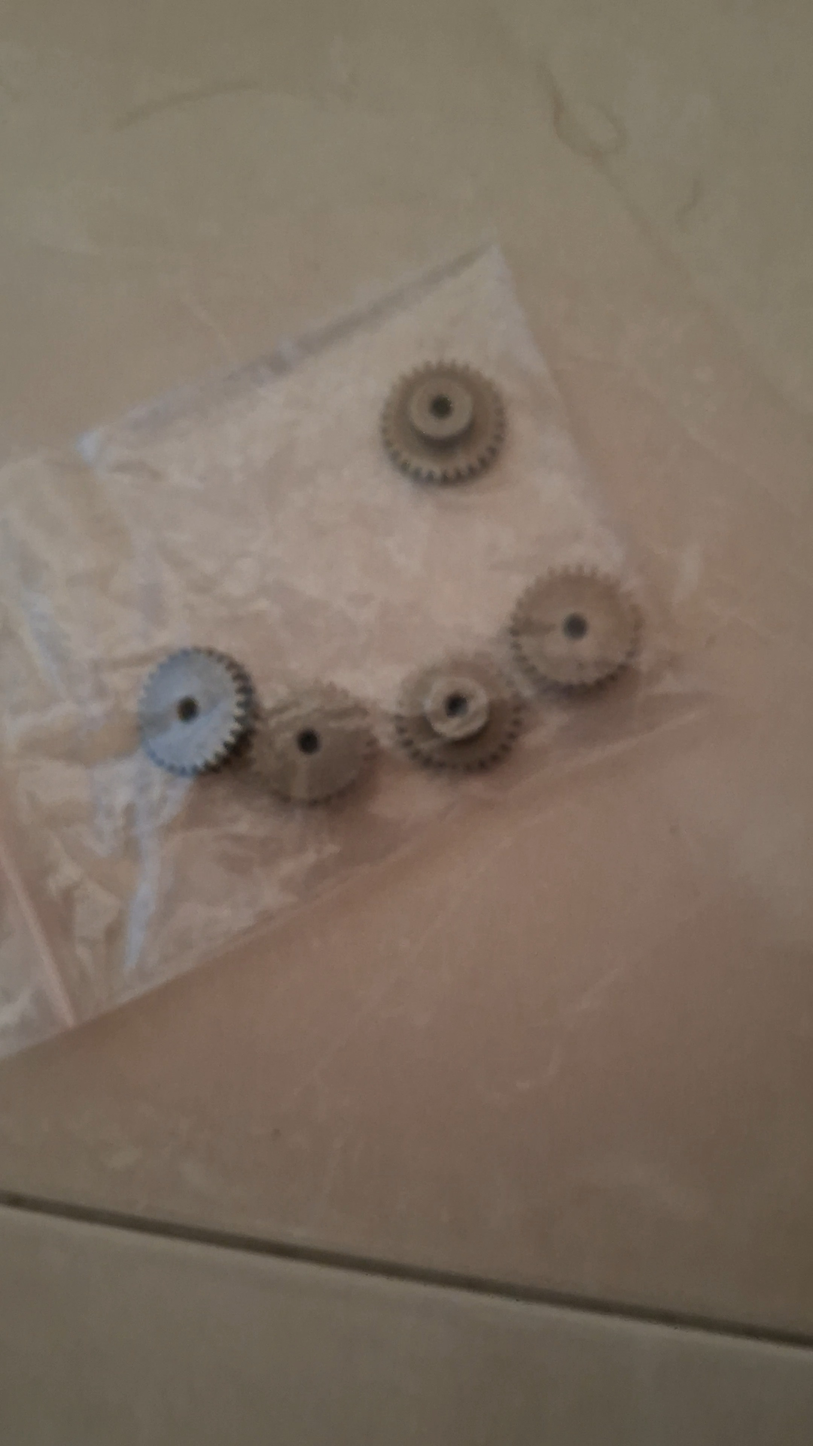spur gear: (509, 569, 642, 688), (381, 362, 505, 483), (251, 684, 375, 804), (139, 648, 254, 776), (394, 656, 522, 770)
